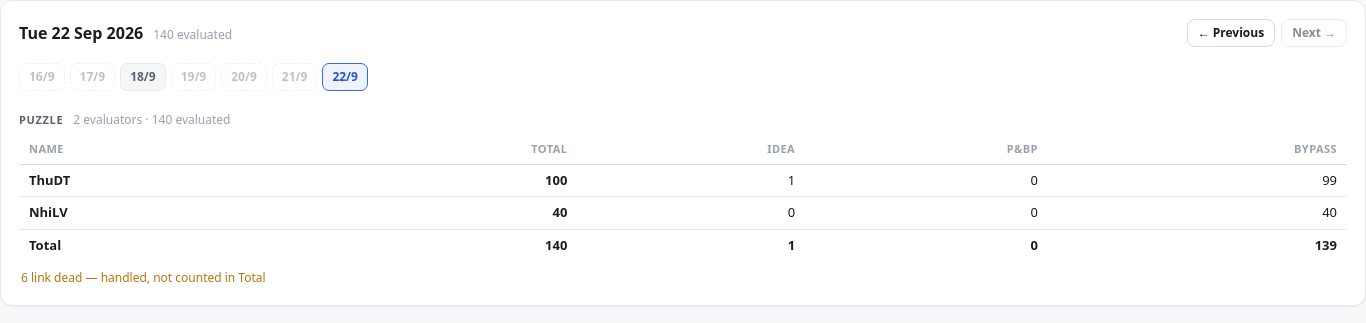
it: DailyBlock › steps between days that HAVE work, never onto an empty one
Expected: the text "Tue 22 Sep 2026" is shown, [19,21,143,45]
What coordinates should you click on to do the following:
click the button with aria-label "previous day"
I would click on:
 (1231, 33)
Its box is [1187,19,1275,47].
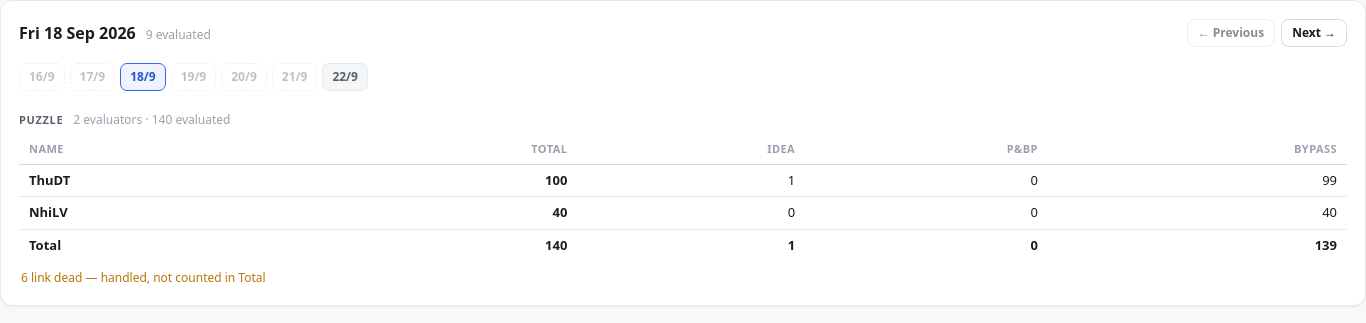
Result: the text "Fri 18 Sep 2026" is shown at [19,21,136,45]
